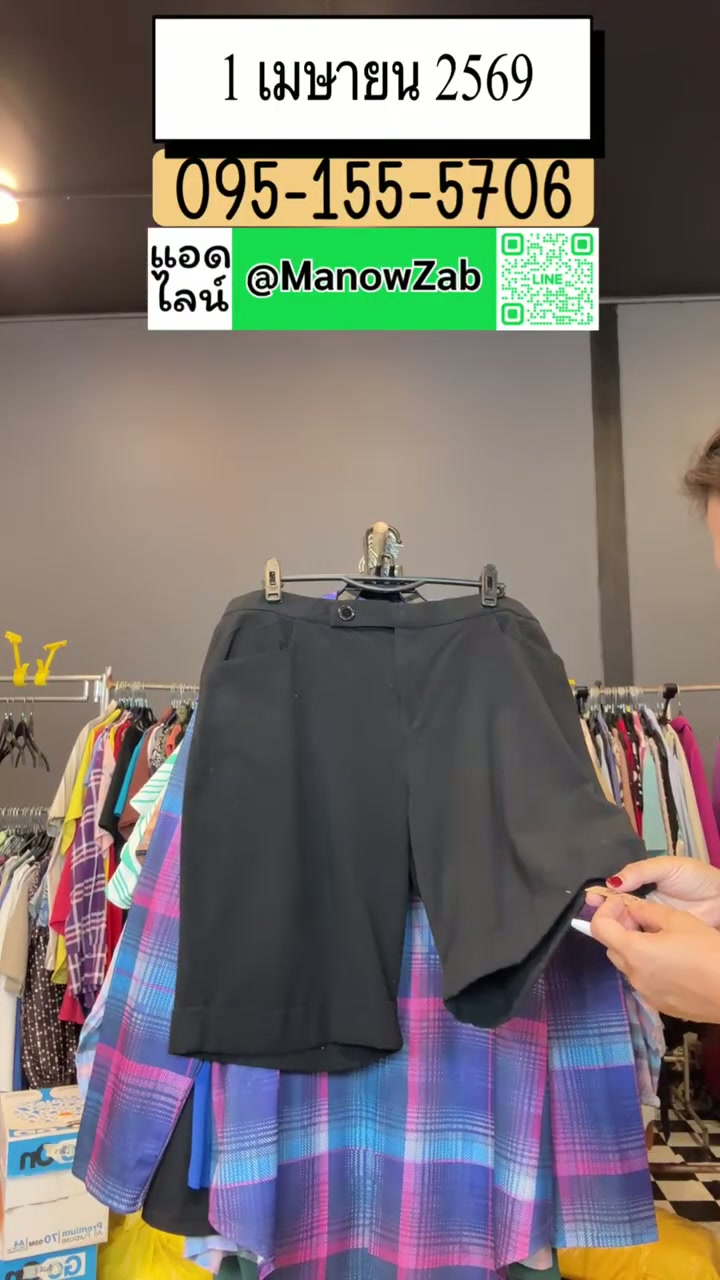display_shirt: (168, 588, 643, 1072)
